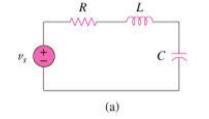inductor: (115, 12, 159, 28)
